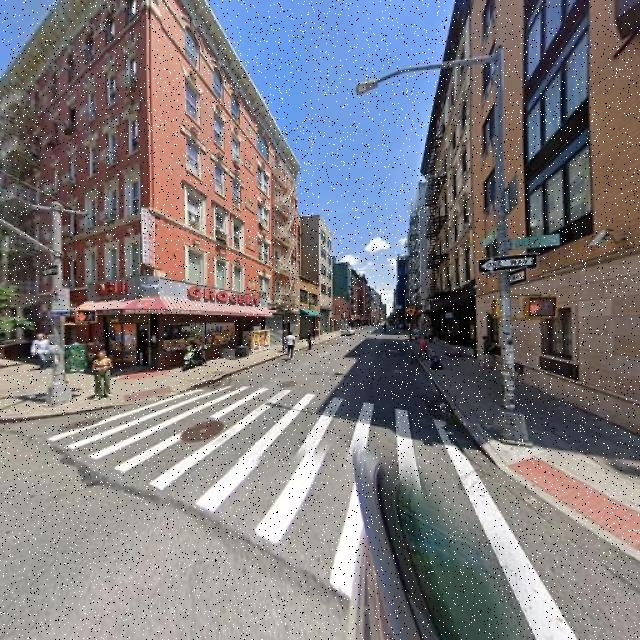Building: (1, 1, 299, 365), (475, 1, 640, 440)
